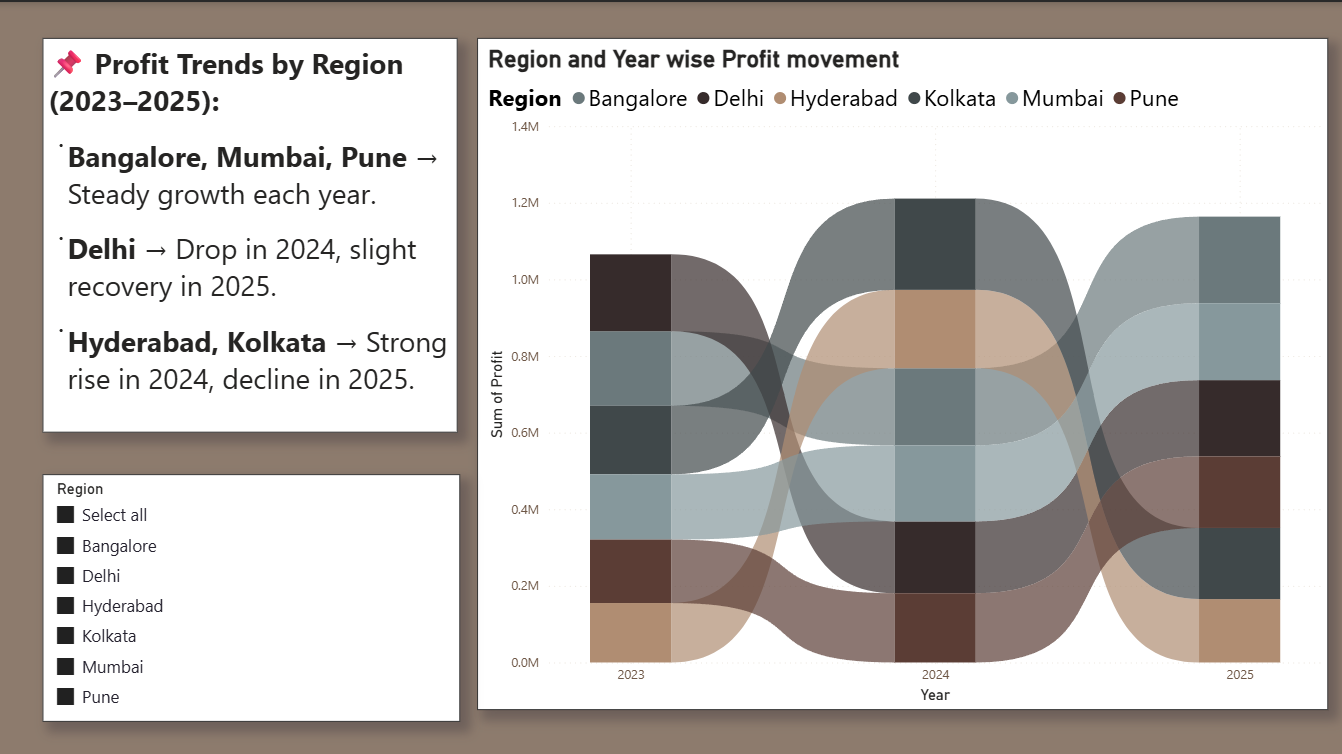

What the dashboard file says about the page in this screenshot:
{"tool":"powerbi","page":{"name":"Region wise profit annually","canvas":[1280,720],"ordinal":3},"visuals":[{"type":"ribbonChart","title":"Region and Year wise Profit movement","fields":{"Category":["nike_sales_cleaned.Order_Date.Variation.Date Hierarchy.Year"],"Y":["Sum(nike_sales_cleaned.Profit)","select"],"Series":["nike_sales_cleaned.Region"]},"box":[455.2,34.9,811.3,640.6],"z":0},{"type":"textbox","box":[40,34,396,376],"z":1000},{"type":"slicer","fields":{"Values":["nike_sales_cleaned.Region"]},"box":[40,450,398,236],"z":2000}]}

Visuals, with their boxes in screenshot pixels (x1, y1, x2, y2), scaled from the page's 1280x720 canvas onto the 1342x754 screenshot:
"Region and Year wise Profit movement" ribbonChart: [left=477, top=37, right=1328, bottom=707]
textbox: [left=42, top=36, right=457, bottom=429]
slicer - nike_sales_cleaned.Region: [left=42, top=471, right=459, bottom=718]
